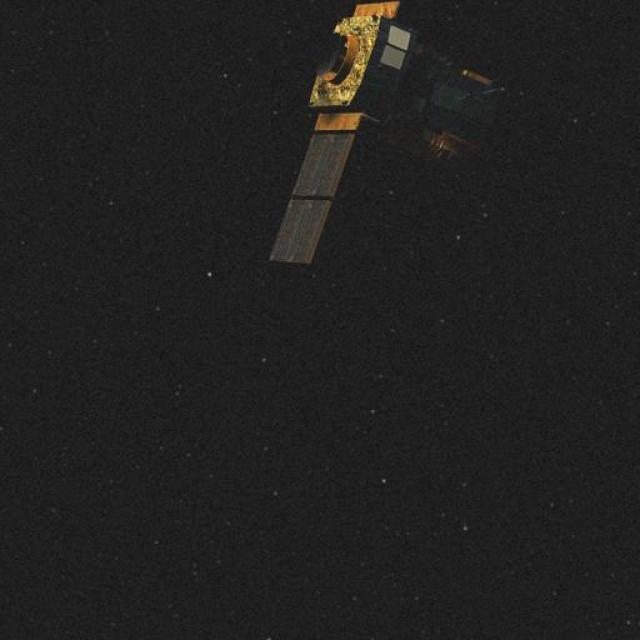soho: (262, 15, 512, 278)
